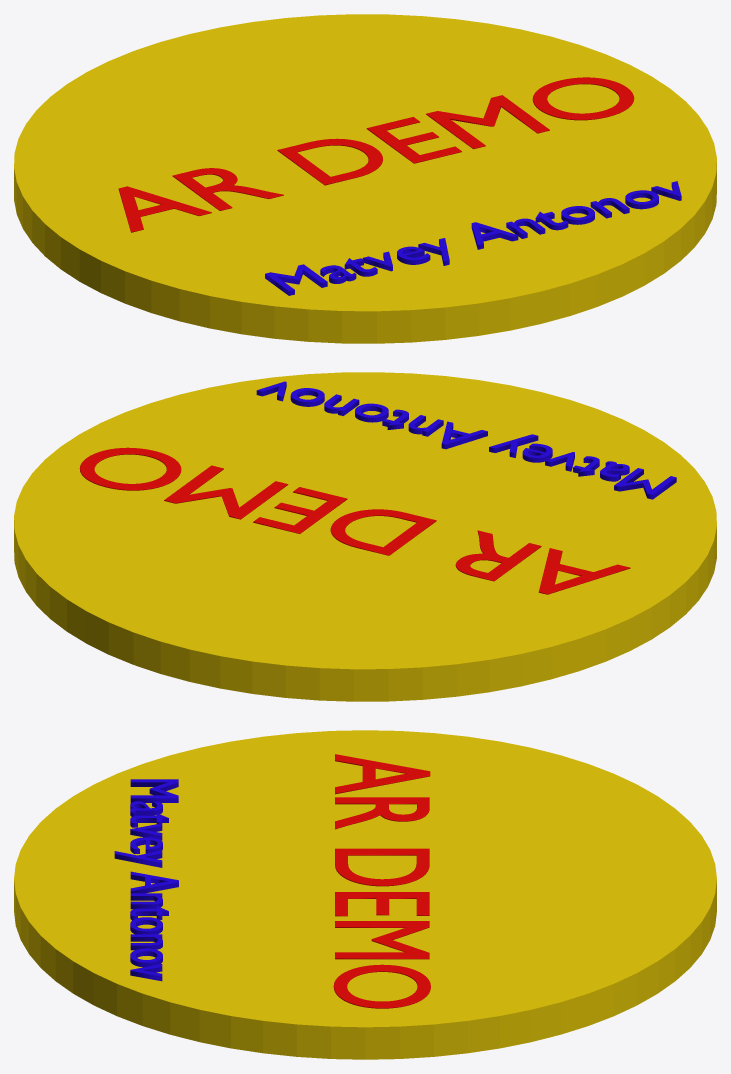
Rendered from my-coin.glb.
The picture shows the model from 3 angles, top to bottom: view 1: azimuth 30°, elevation 25°; view 2: azimuth 150°, elevation 25°; view 3: azimuth 270°, elevation 25°; orthographic projection.
Parts seen in each view (by area): view 1: Cylinder, Text, Text.001; view 2: Cylinder, Text, Text.001; view 3: Cylinder, Text, Text.001.
Part boxes in pixels (x1,y1,x2,y2): Cylinder: (14, 14, 716, 343); Text: (118, 77, 634, 232); Text.001: (265, 181, 681, 295); Cylinder: (14, 372, 716, 701); Text: (79, 447, 630, 594); Text.001: (256, 381, 676, 499); Cylinder: (14, 730, 716, 1059); Text: (333, 754, 430, 1008); Text.001: (114, 779, 178, 981).
Bounding box in the file's own units: 2.16 × 0.126 × 2.16.
